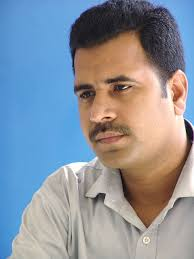Indian_Male: (77, 49, 161, 175)
